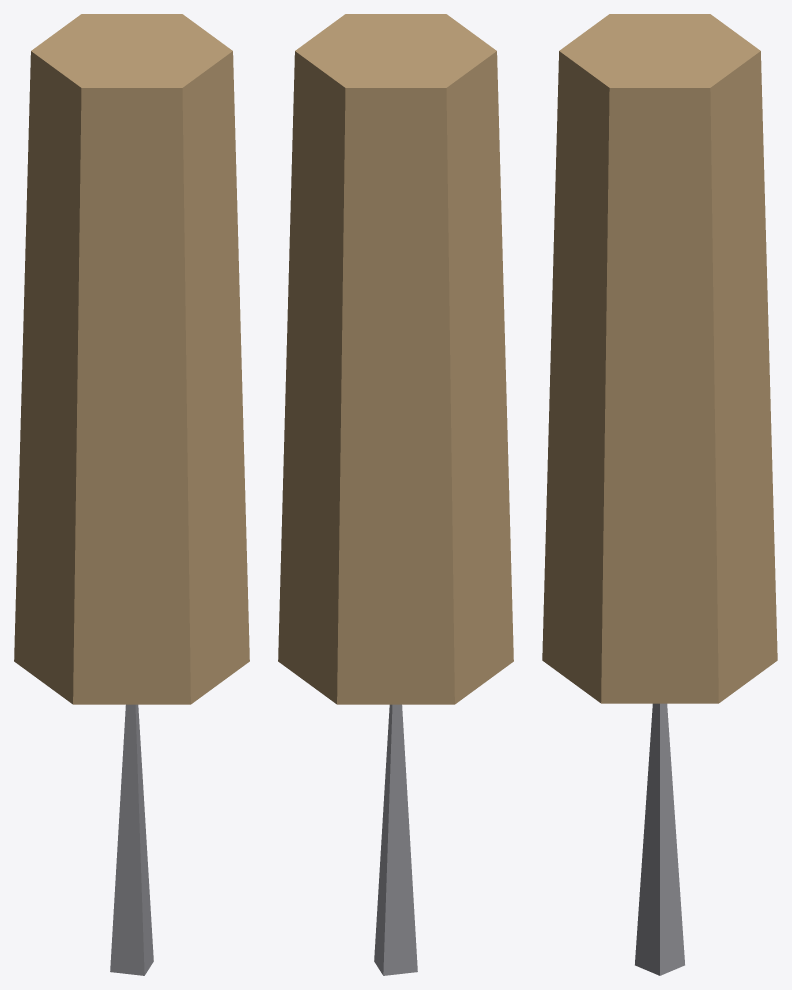
File: prop-flail-awl-fm1.fbx
The picture shows the model from 3 angles, left to right: view 1: azimuth 30°, elevation 25°; view 2: azimuth 150°, elevation 25°; view 3: azimuth 270°, elevation 25°; orthographic projection.
Visible parts, largest first — view 1: prop-flail-awl-fm1; view 2: prop-flail-awl-fm1; view 3: prop-flail-awl-fm1.
Boxes of the visible parts, box(x1,y1,x2,y2) form: prop-flail-awl-fm1: box(14, 14, 249, 975); prop-flail-awl-fm1: box(278, 14, 513, 975); prop-flail-awl-fm1: box(542, 14, 777, 975).
Size of the model in its own units: 2.42 by 12 by 2.8.
